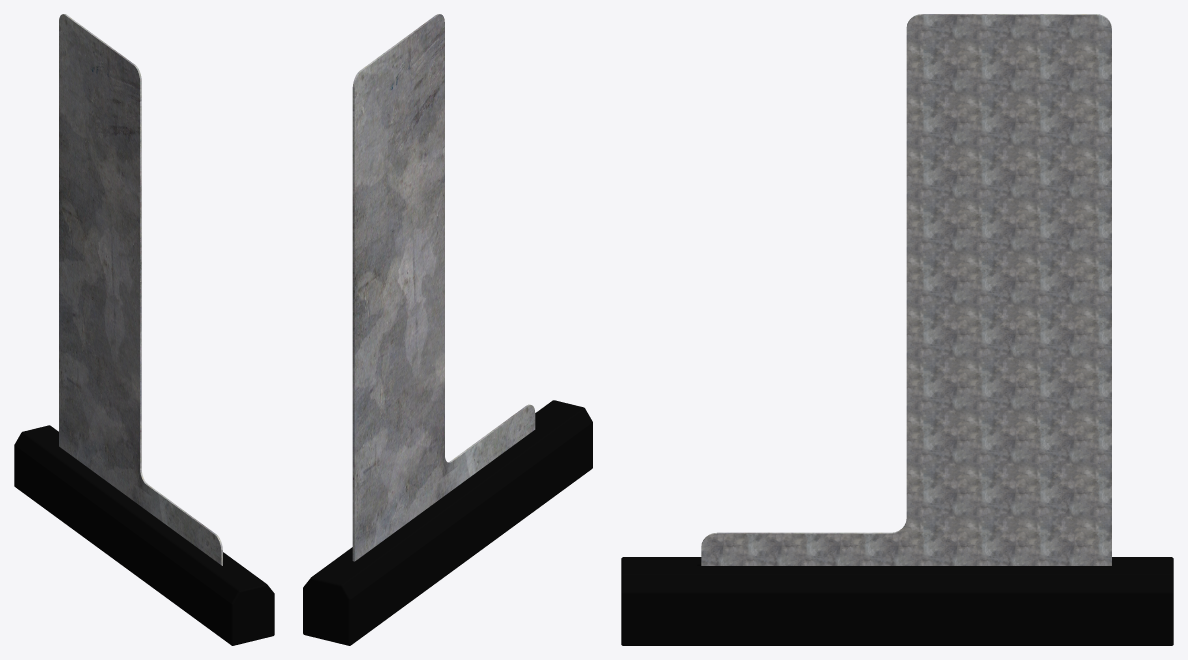
3 renders of one model, left to right at view 1: azimuth 30°, elevation 25°; view 2: azimuth 150°, elevation 25°; view 3: azimuth 270°, elevation 25°, orthographic. The views are drawn at different scales.
Parts seen in each view (by area): view 1: Half-Darkslide Metal-1, Half Darkslide Plastic-2; view 2: Half-Darkslide Metal-1, Half Darkslide Plastic-2; view 3: Half-Darkslide Metal-1, Half Darkslide Plastic-2.
Part boxes in pixels (<box>): Half-Darkslide Metal-1: <box>59,14,222,565</box>; Half Darkslide Plastic-2: <box>14,425,274,645</box>; Half-Darkslide Metal-1: <box>352,14,535,561</box>; Half Darkslide Plastic-2: <box>303,400,592,645</box>; Half-Darkslide Metal-1: <box>701,14,1111,565</box>; Half Darkslide Plastic-2: <box>621,557,1173,645</box>.
Size of the model in its own units: 0.0277 by 0.2997 by 0.2425.
Materials: 4 (2 with a texture image).
